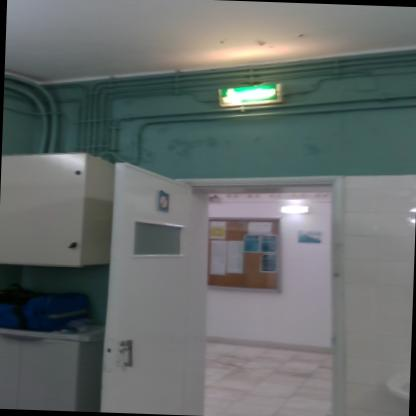open: (90, 163, 354, 416)
